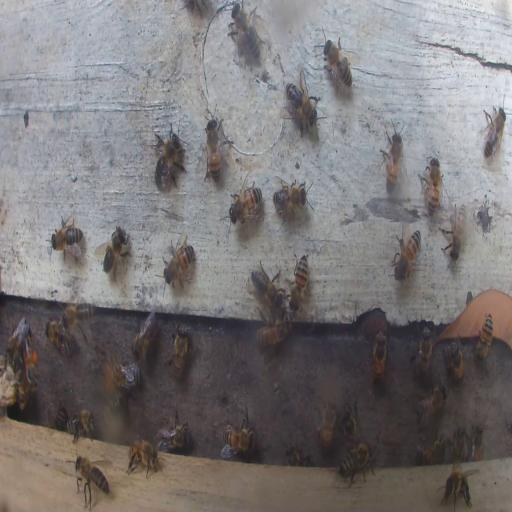nonpollenbee: (282, 70, 322, 130), (153, 125, 187, 191), (379, 117, 405, 192), (163, 233, 196, 292), (322, 34, 355, 92), (96, 225, 131, 277), (74, 454, 110, 504), (230, 3, 261, 61), (49, 213, 85, 261), (437, 464, 474, 510), (392, 228, 422, 284), (337, 445, 375, 488), (442, 200, 467, 262), (250, 265, 284, 310), (272, 178, 310, 218), (222, 412, 256, 456), (480, 107, 507, 162), (229, 183, 263, 225), (414, 381, 446, 425), (126, 436, 160, 476), (419, 157, 442, 215), (204, 112, 222, 183), (132, 311, 158, 360), (409, 324, 433, 376), (167, 326, 190, 380), (256, 316, 291, 350), (106, 358, 142, 390), (156, 414, 188, 450), (316, 398, 337, 451), (290, 253, 309, 310), (47, 318, 74, 356), (60, 302, 92, 331), (8, 316, 30, 358), (443, 339, 464, 382), (415, 436, 447, 464), (340, 400, 360, 444), (476, 314, 494, 362), (68, 410, 95, 442), (371, 332, 387, 384), (285, 445, 313, 467), (452, 426, 469, 458), (471, 425, 485, 461), (54, 404, 68, 430)
pollenbee: (22, 332, 39, 384)
